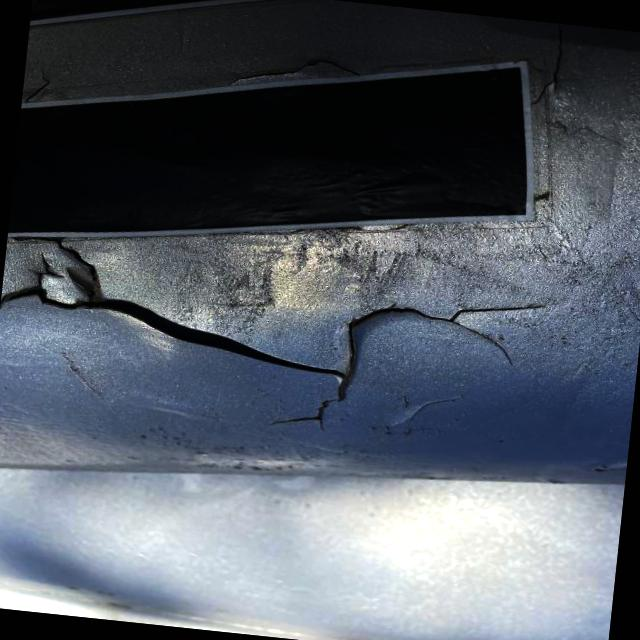crack: (0, 273, 368, 430), (316, 288, 552, 377), (372, 390, 469, 437)
